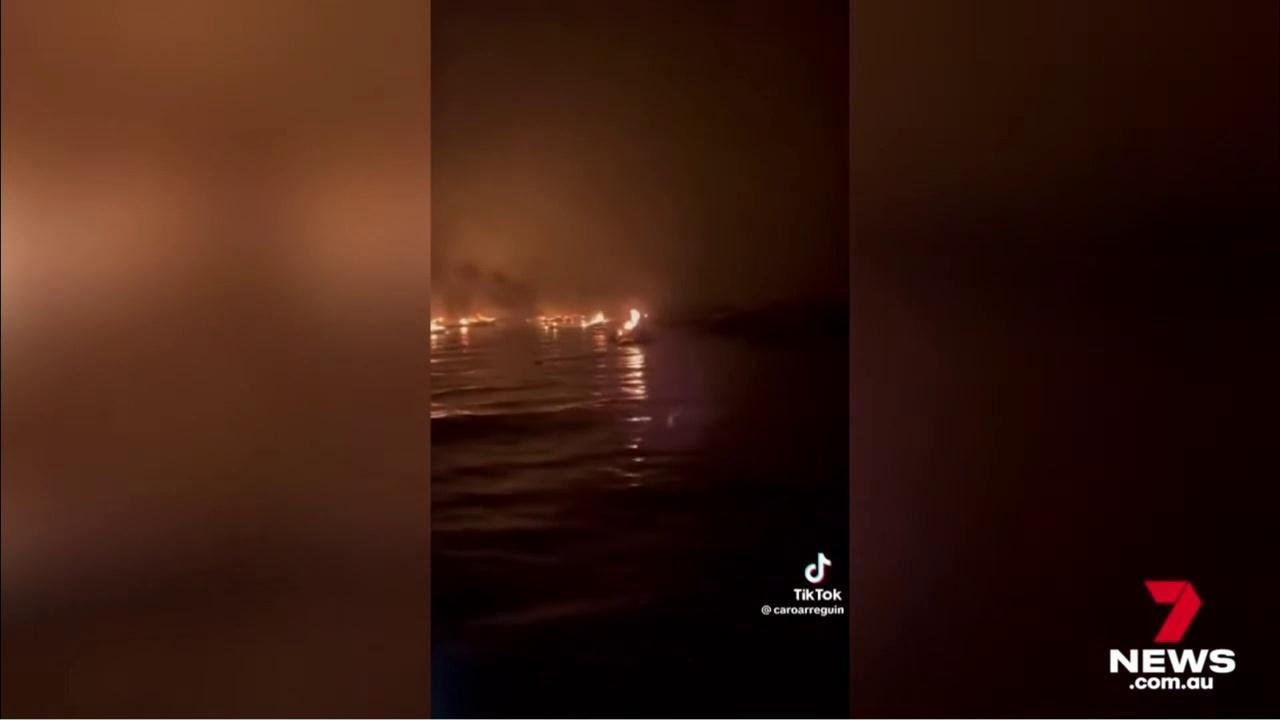fire: (540, 312, 610, 328), (617, 308, 641, 339), (457, 313, 499, 326), (430, 316, 450, 333)
smoke: (429, 0, 844, 315)
